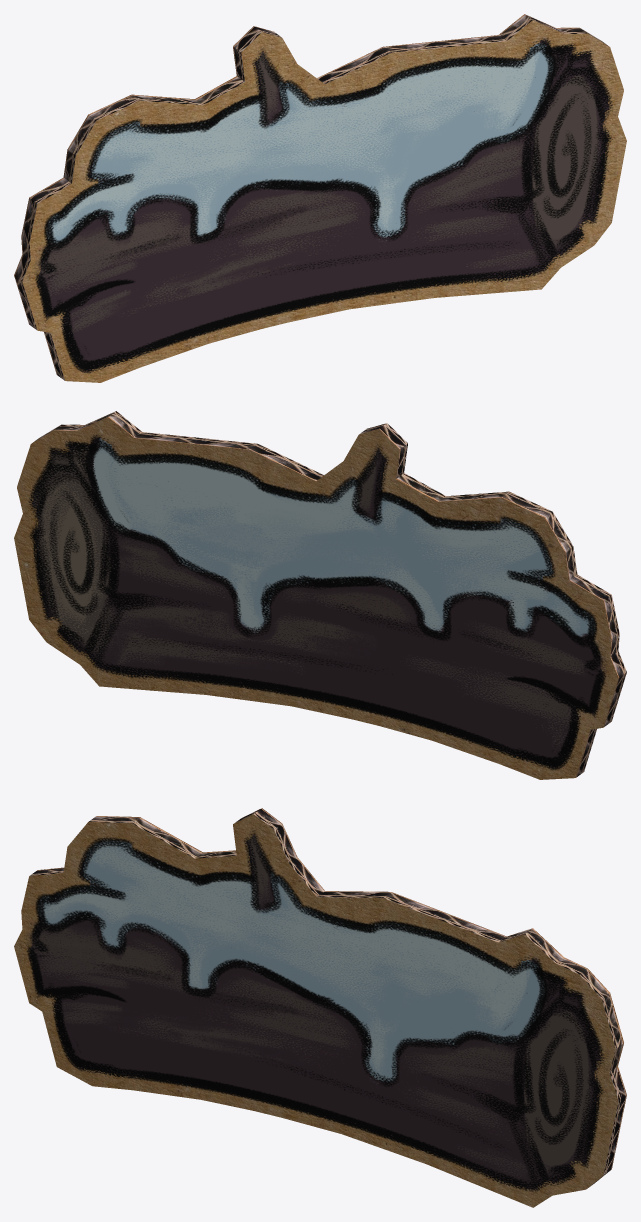
File: Log.fbx
3 views of the same model, one above another, from view 1: azimuth 30°, elevation 25°; view 2: azimuth 150°, elevation 25°; view 3: azimuth 330°, elevation 25° (orthographic).
Visible parts, largest first — view 1: Plane; view 2: Plane; view 3: Plane.
Boxes of the visible parts, x1,y1,x2,y2 form: Plane: (14, 14, 626, 382); Plane: (14, 411, 626, 779); Plane: (14, 808, 626, 1207).
Bounding box in the file's own units: 399 × 205 × 9.62.
